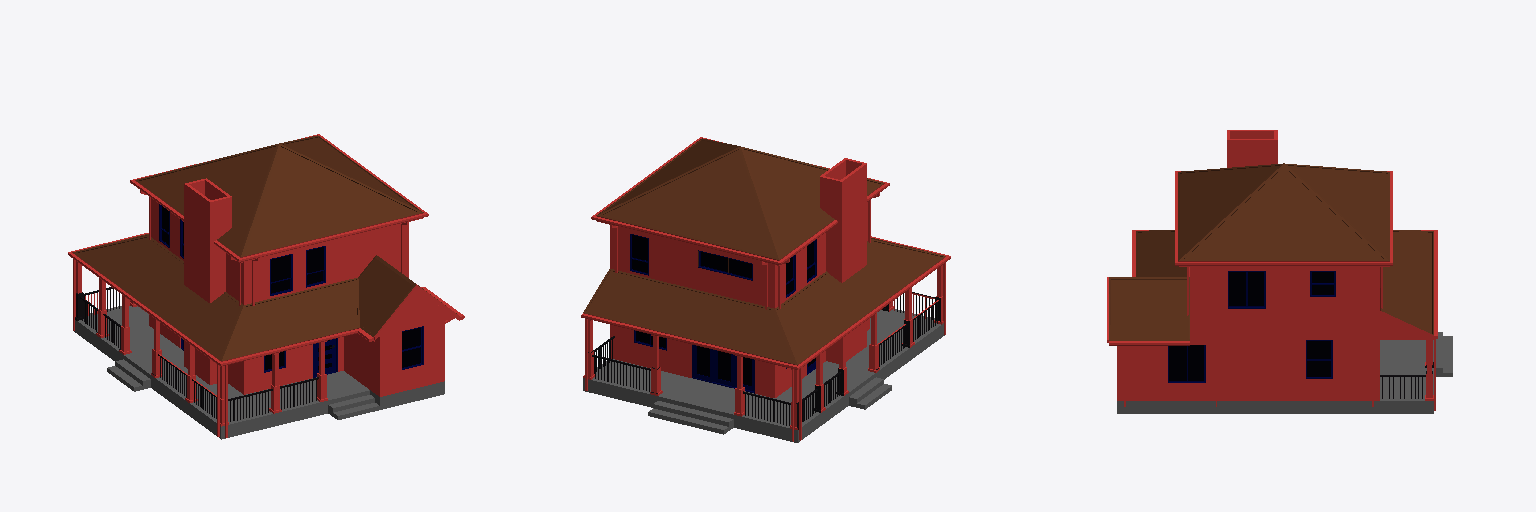
File: bighouse2.obj
The picture shows the model from 3 angles: view 1: azimuth 30°, elevation 25°; view 2: azimuth 150°, elevation 25°; view 3: azimuth 270°, elevation 25°; orthographic projection.
Visible parts, largest first — view 1: house; view 2: house; view 3: house.
Part boxes in pixels (x1,y1,x2,y2): house: (68,134,464,439); house: (581,137,950,442); house: (1107,130,1452,413).
Size of the model in its own units: 358 by 292 by 436.